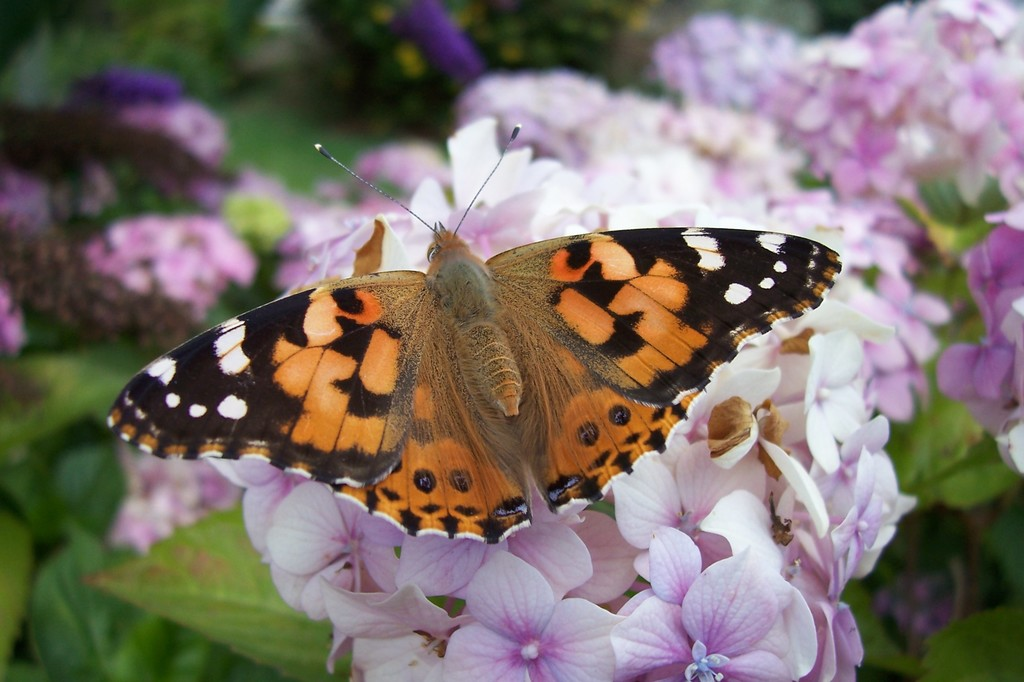Butterfly: (85, 207, 927, 565)
